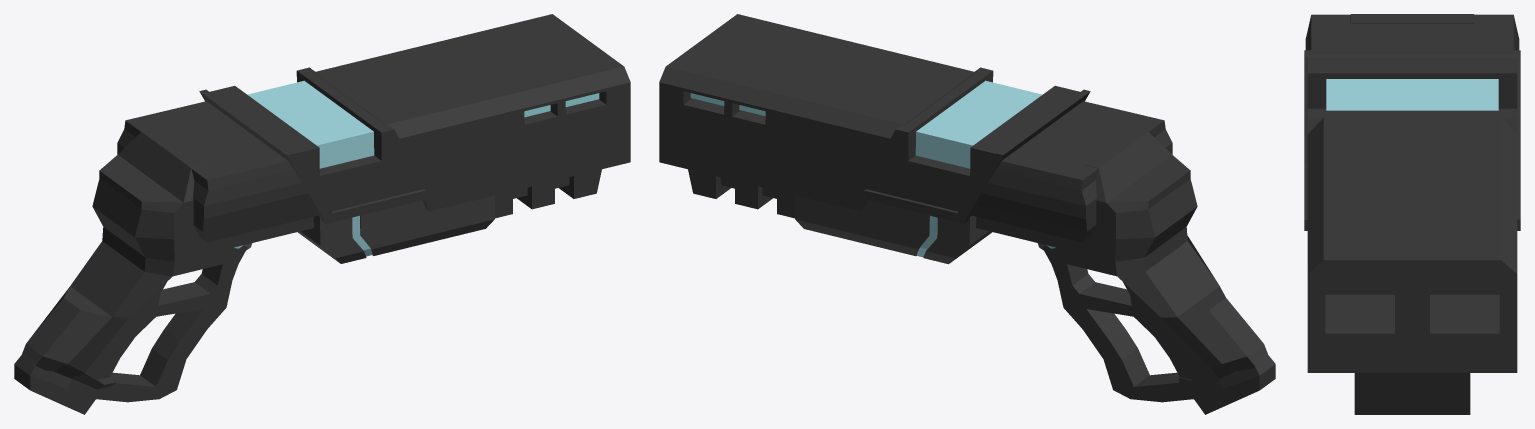
File: Sci_Fi_Shotgun.fbx
3 renders of one model, left to right at view 1: azimuth 30°, elevation 25°; view 2: azimuth 150°, elevation 25°; view 3: azimuth 270°, elevation 25°, orthographic. The views are drawn at different scales.
Visible parts, largest first — view 1: Cube.001; view 2: Cube.001; view 3: Cube.001.
Part boxes in pixels (bbox=[...]): Cube.001: bbox=[14, 14, 630, 414]; Cube.001: bbox=[659, 14, 1275, 414]; Cube.001: bbox=[1304, 14, 1520, 414].
Bounding box in the file's own units: 695 × 290 × 186.
